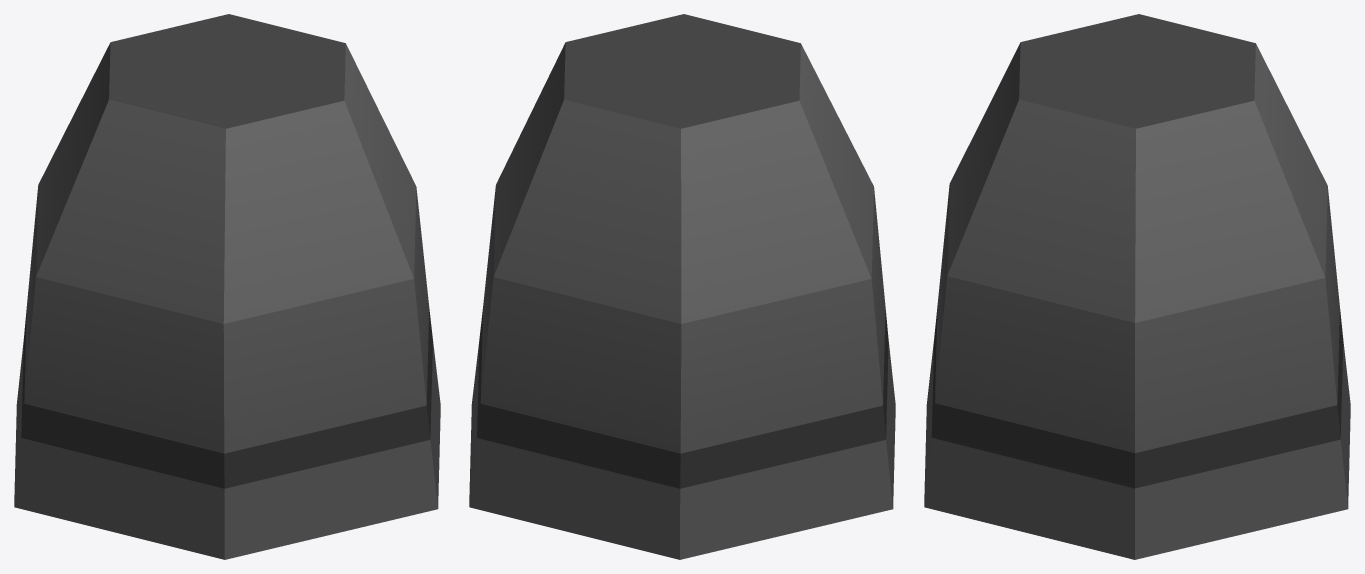
The model's file is SM_Veh_Thruster_02.fbx.
The picture shows the model from 3 angles, left to right: view 1: azimuth 30°, elevation 25°; view 2: azimuth 150°, elevation 25°; view 3: azimuth 270°, elevation 25°; orthographic projection.
Visible parts, largest first — view 1: SM_Veh_Thruster_02; view 2: SM_Veh_Thruster_02; view 3: SM_Veh_Thruster_02.
Part boxes in pixels (x1,y1,x2,y2): SM_Veh_Thruster_02: (14,14,440,559); SM_Veh_Thruster_02: (469,14,895,559); SM_Veh_Thruster_02: (924,14,1350,559).
Size of the model in its own units: 0.5871 by 0.5097 by 0.5117.
